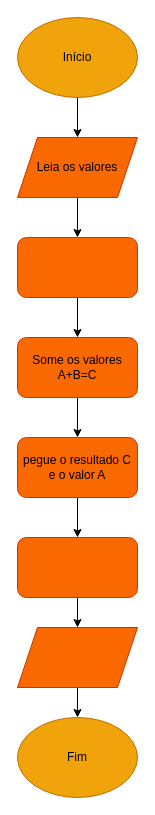
The diagram is 155 pixels wide and 815 high, and some of its shapes have lost their labels. The centre of each missing label's shape, as x and y in pixels:
Mostre o valores: (77,657)
Multiplique os valores A C=D: (77,567)
Pegue os valores A e B: (77,267)
